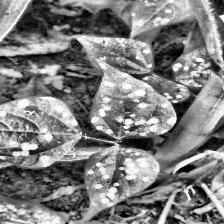Bean Rust: (89, 63, 182, 140), (0, 96, 79, 168), (84, 144, 162, 210), (71, 34, 159, 74), (129, 0, 198, 38), (173, 52, 208, 88)
